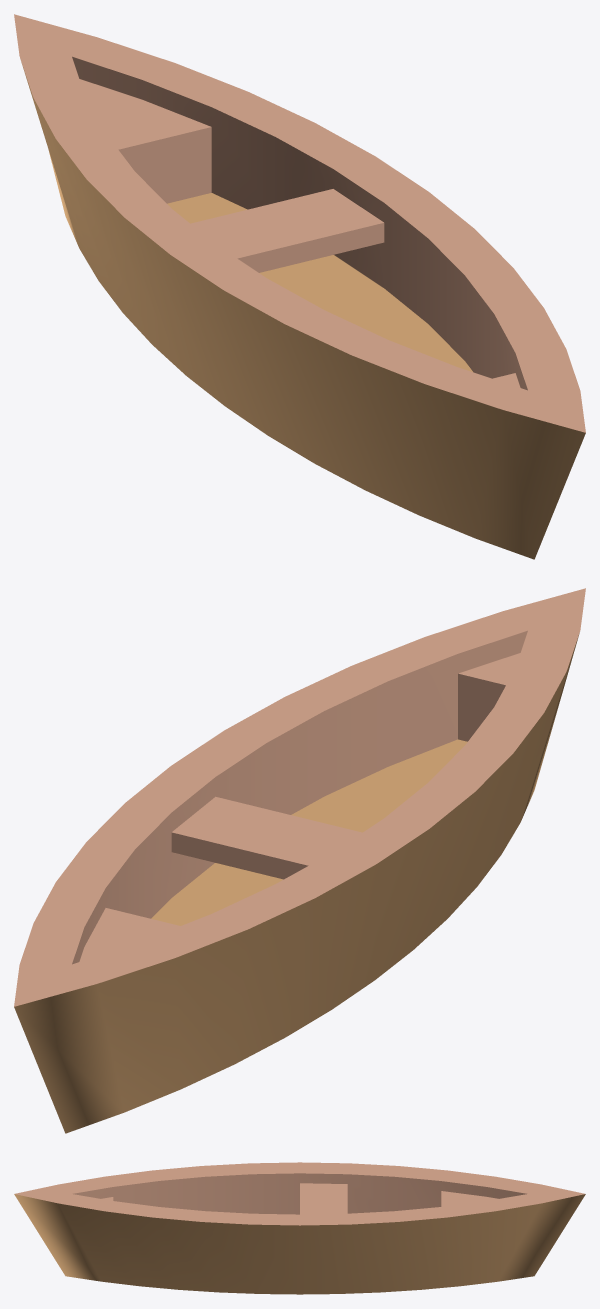
Rendered from canoe.glb.
3 views of the same model, one above another, from view 1: azimuth 30°, elevation 25°; view 2: azimuth 150°, elevation 25°; view 3: azimuth 270°, elevation 25° (orthographic). The views are drawn at different scales.
Visible parts, largest first — view 1: canoe; view 2: canoe; view 3: canoe.
Boxes of the visible parts, x1=… form: canoe: x1=14, y1=14, x2=585, y2=559; canoe: x1=14, y1=588, x2=585, y2=1133; canoe: x1=14, y1=1162, x2=585, y2=1294.
Size of the model in its own units: 0.3 by 0.1825 by 1.15.
